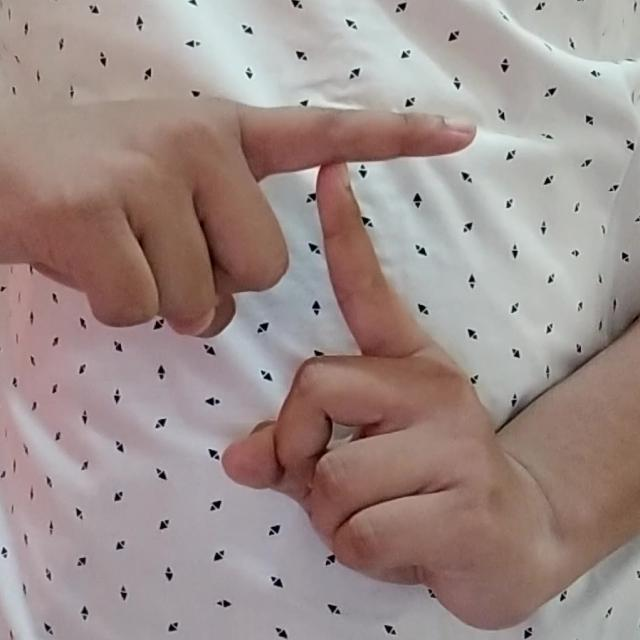T: (48, 79, 569, 632)
